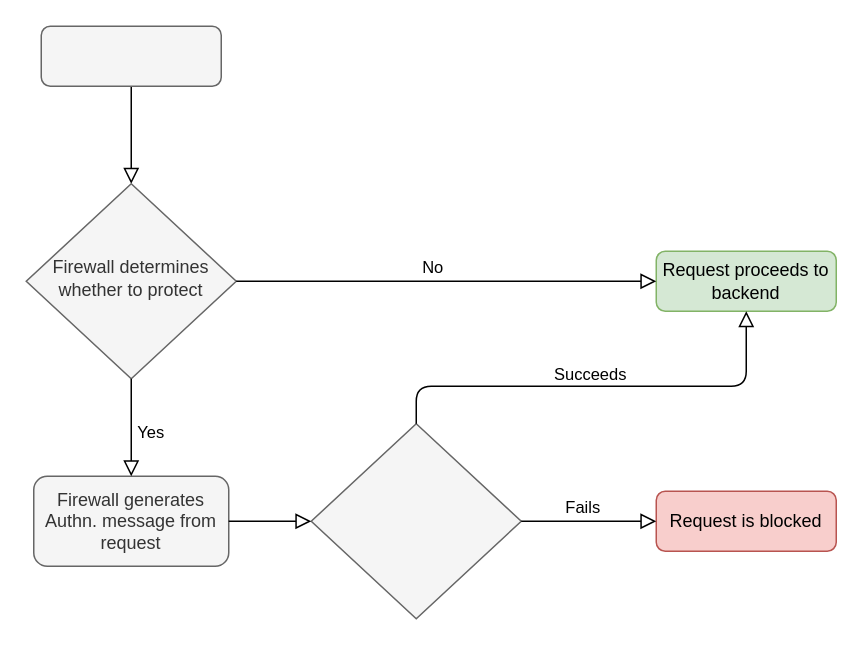
This 863x645 diagram has some shape labels left out. Each missing label, with the centre of its shape:
HTTP Request Intercepted: (130,55)
WebAuthn Verification: (415,520)
